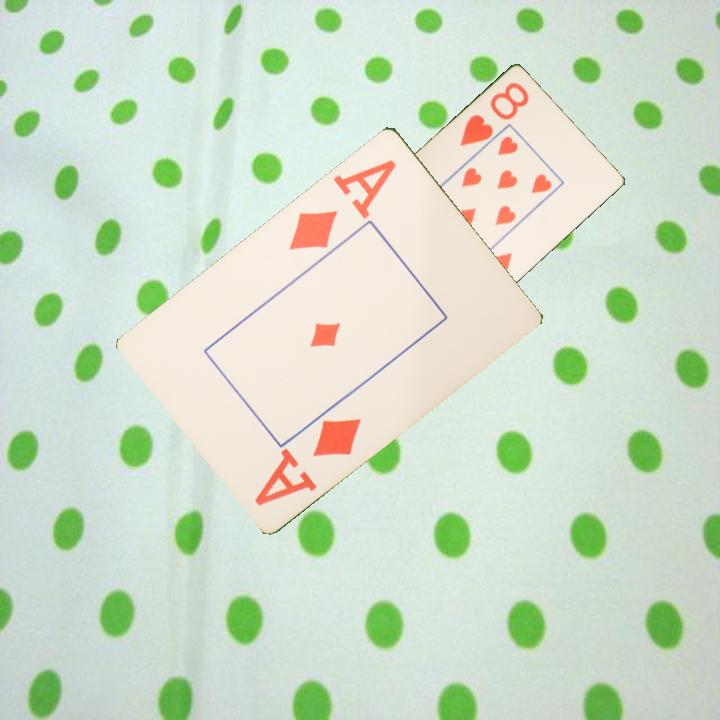8h: (456, 79, 532, 149)
Ad: (285, 155, 400, 253), (250, 413, 365, 508)
